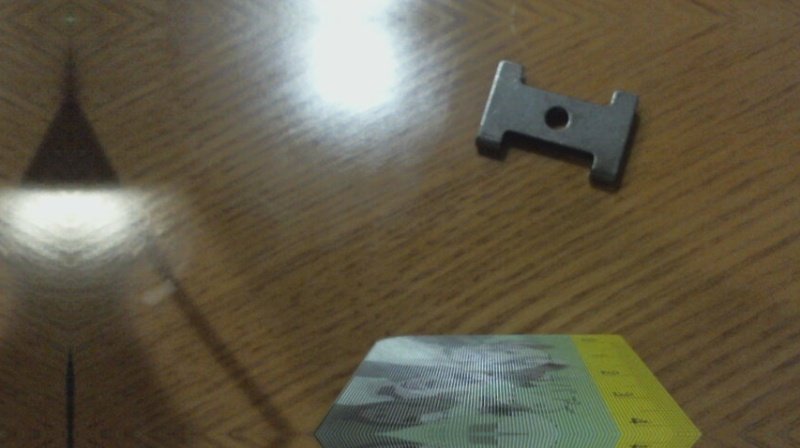O002: (473, 58, 643, 193)
